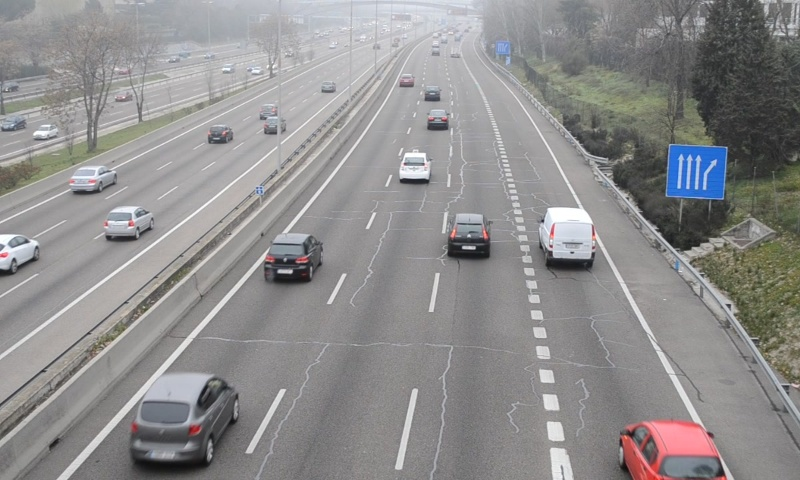car: (130, 372, 240, 463), (621, 419, 732, 480), (263, 233, 323, 280), (448, 213, 490, 256), (398, 152, 430, 182), (426, 108, 448, 132), (423, 84, 441, 101), (398, 72, 413, 87)
van: (541, 207, 596, 267)
